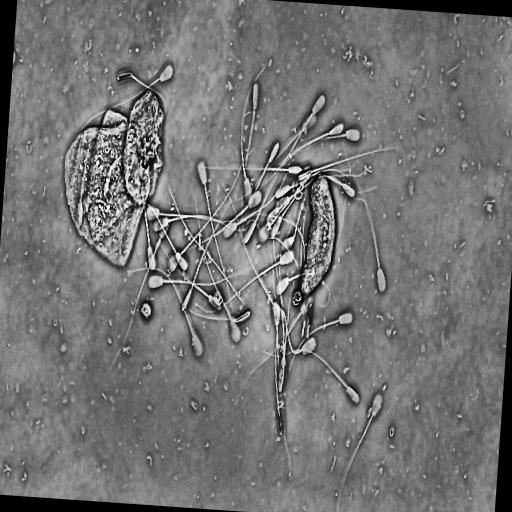dirt-particles: (61, 76, 170, 276), (298, 168, 337, 301), (139, 302, 153, 321)
folded-tail: (273, 226, 303, 354), (351, 197, 380, 269)
normal: (167, 151, 255, 274), (180, 171, 243, 313), (146, 207, 222, 311), (191, 186, 241, 342), (73, 64, 173, 140), (123, 265, 204, 358), (194, 249, 296, 314), (260, 346, 362, 408), (272, 220, 318, 357), (196, 157, 235, 315), (267, 93, 326, 195), (266, 121, 345, 190), (337, 395, 382, 512), (286, 308, 355, 379), (186, 189, 263, 249), (346, 193, 388, 295), (241, 61, 269, 204), (241, 80, 260, 236), (152, 211, 259, 235), (274, 271, 332, 311), (147, 272, 247, 289), (197, 163, 303, 176)
